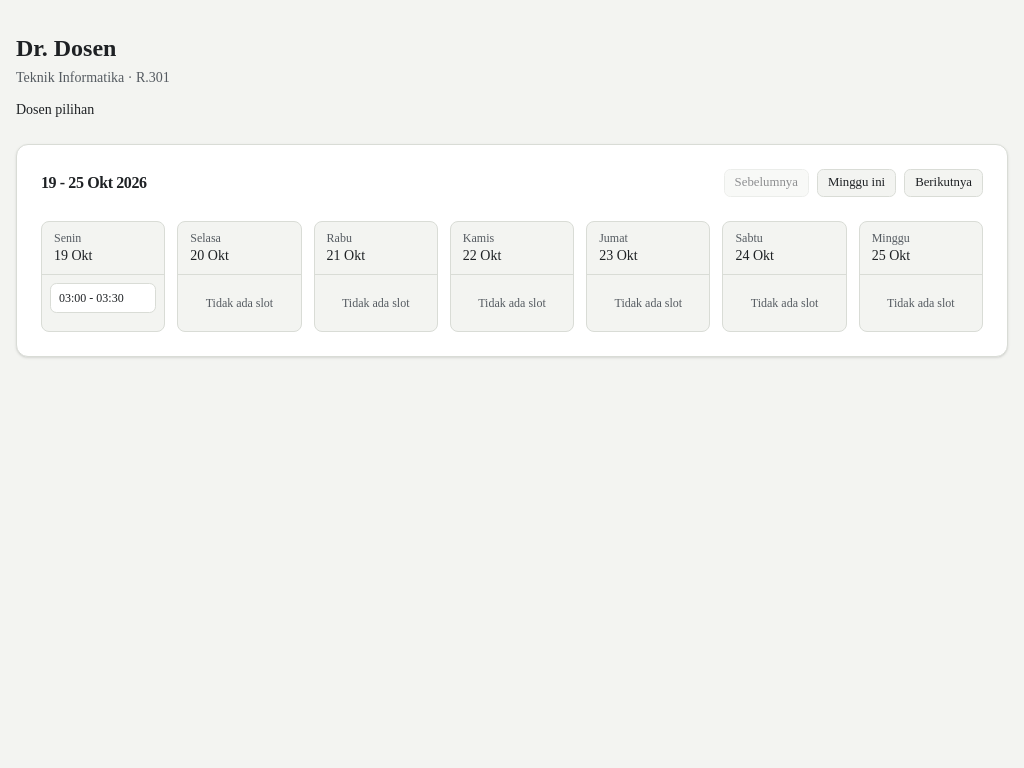
Test: LecturerDetail: SLOT_ALREADY_BOOKED › 409 dari POST /bookings menutup dialog dan memunculkan banner
The width and height of the screenshot is (1024, 768).
Note: Slot dirender dua kali (grid desktop + daftar mobile), ambil salah satu.
Click the button "03:00 - 03:30".
click(103, 298)  # box [50,283,156,313]
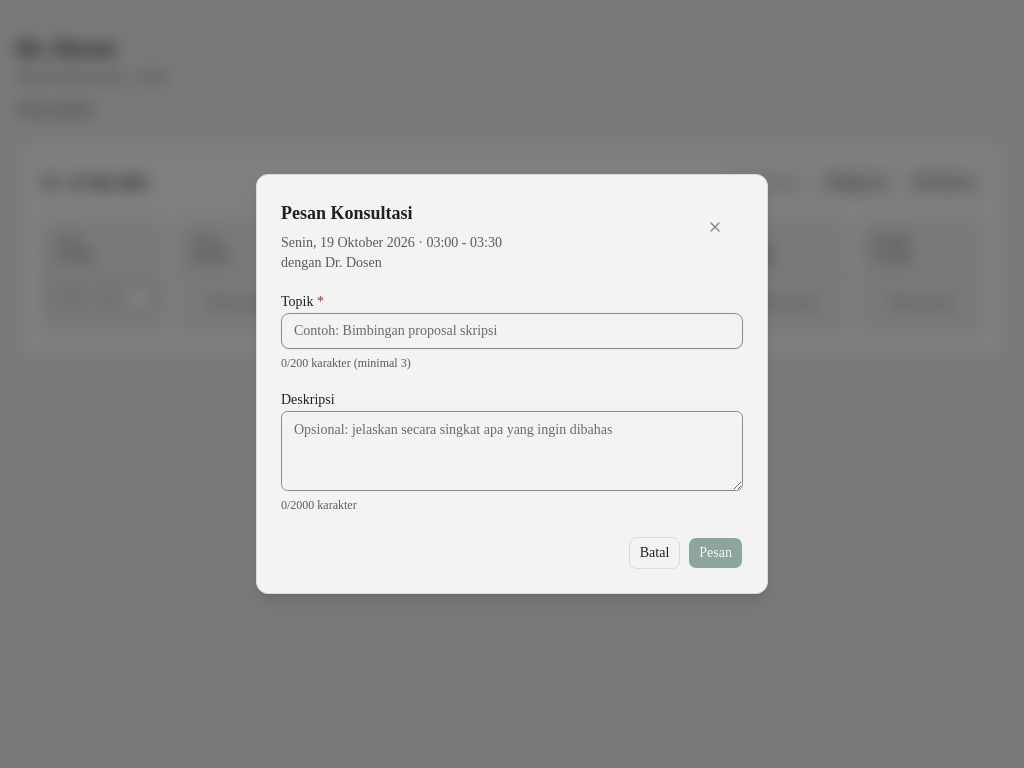
Type "Bimbingan skripsi" into the field labelled "Topik *".
click(512, 331); type("Bimbingan skripsi")  # box [281,313,743,349]
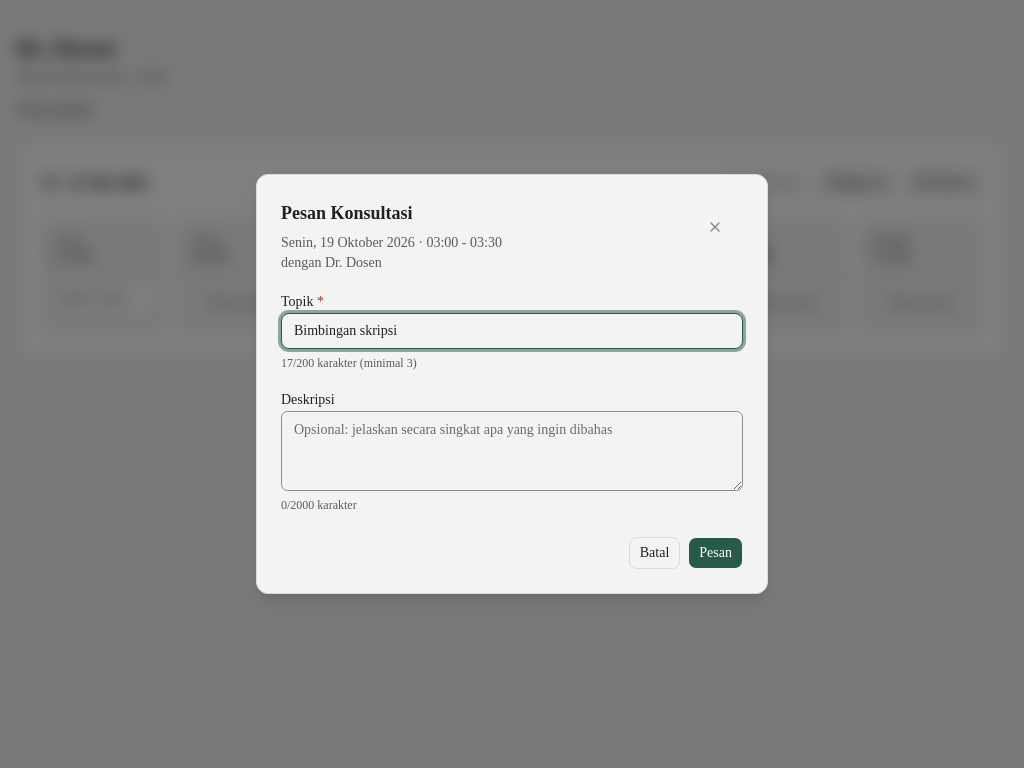
Click the button "Pesan".
click(716, 553)  # box [688,537,743,569]
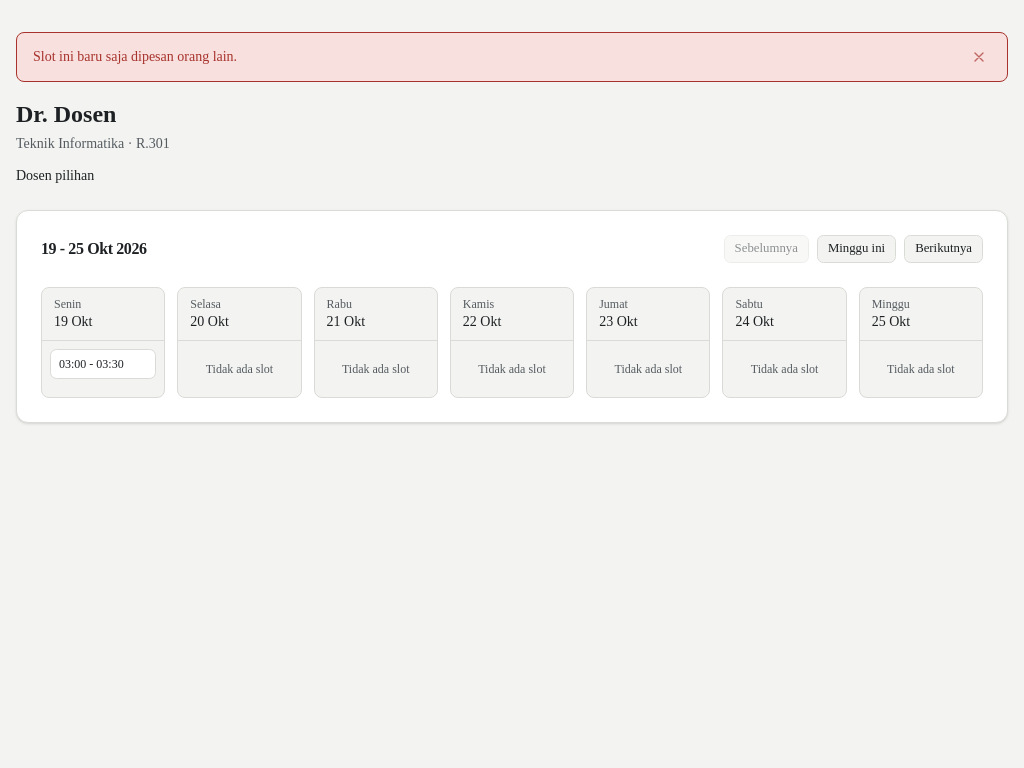
Expected: the message reads "Slot ini baru saja dipesan orang lain.", [33,49,237,64]
